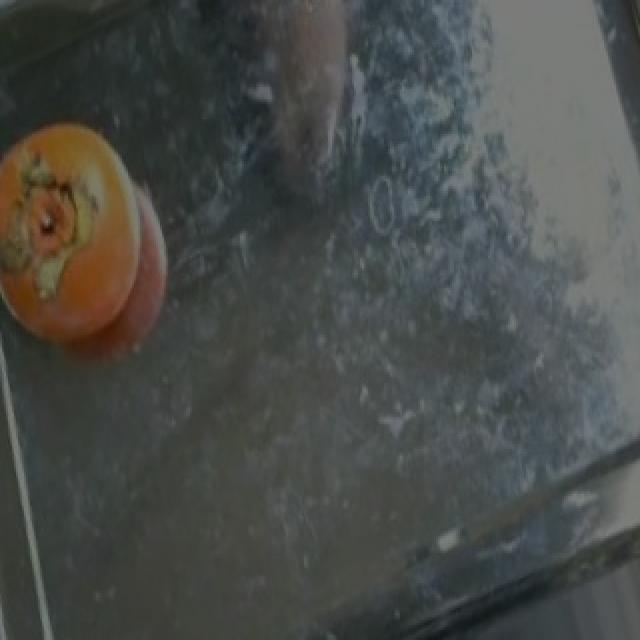Fruit: (2, 99, 166, 370)
